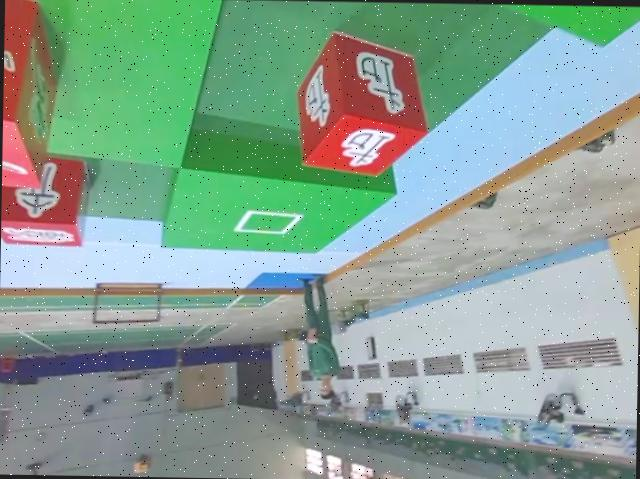R1: (1, 0, 57, 191)
R2 Real: (292, 26, 429, 180)
